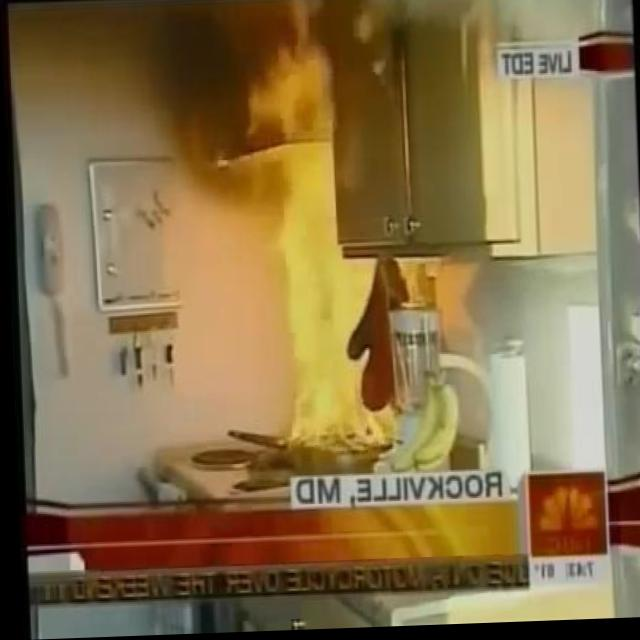fire: (231, 5, 418, 452)
